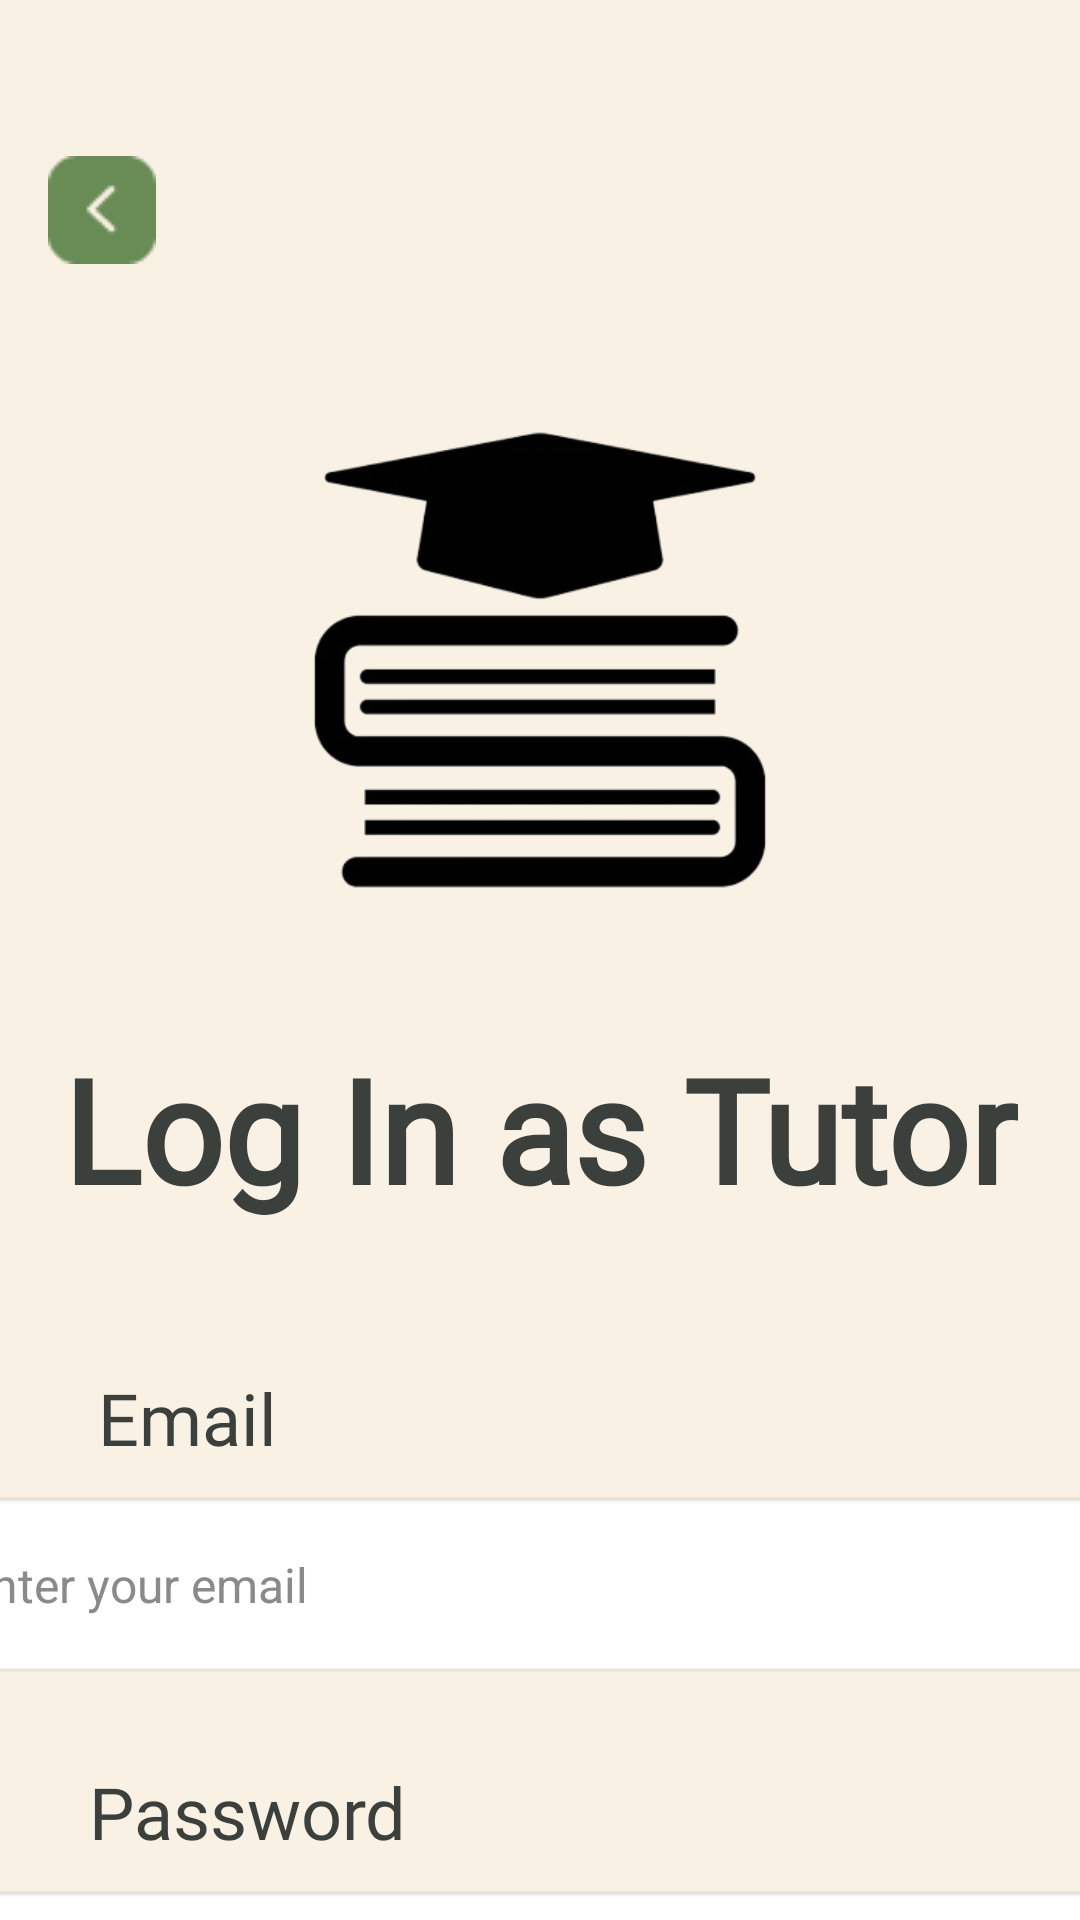

Icon bounding boxes for this 1080w x 1920h phone screenshot, format (x1, y1, x2, y2):
Back Button: (48, 156, 156, 264)
